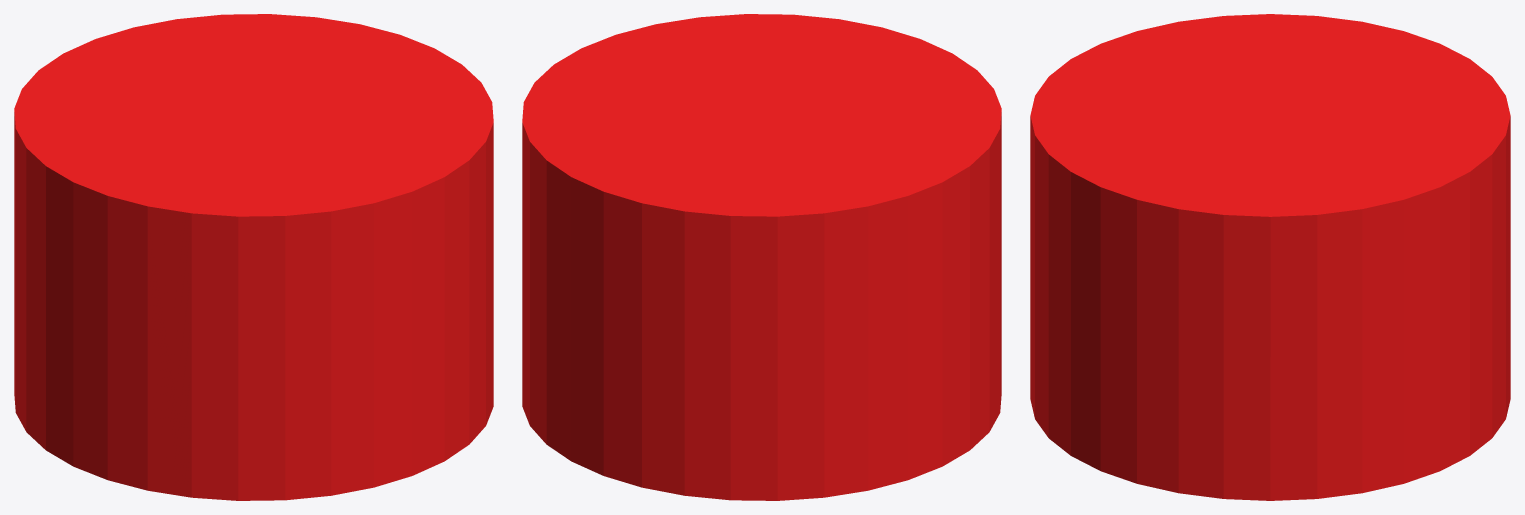
The model's file is TrafficLight_Red.fbx.
3 views of the same model, side by side, from view 1: azimuth 30°, elevation 25°; view 2: azimuth 150°, elevation 25°; view 3: azimuth 270°, elevation 25° (orthographic).
Parts seen in each view (by area): view 1: TrafficLight_Red; view 2: TrafficLight_Red; view 3: TrafficLight_Red.
Part boxes in pixels (box(x1,y1,x2,y2)): TrafficLight_Red: box(14, 14, 493, 500); TrafficLight_Red: box(522, 14, 1001, 500); TrafficLight_Red: box(1030, 14, 1510, 500).
Size of the model in its own units: 2.2 by 1.44 by 2.2.
